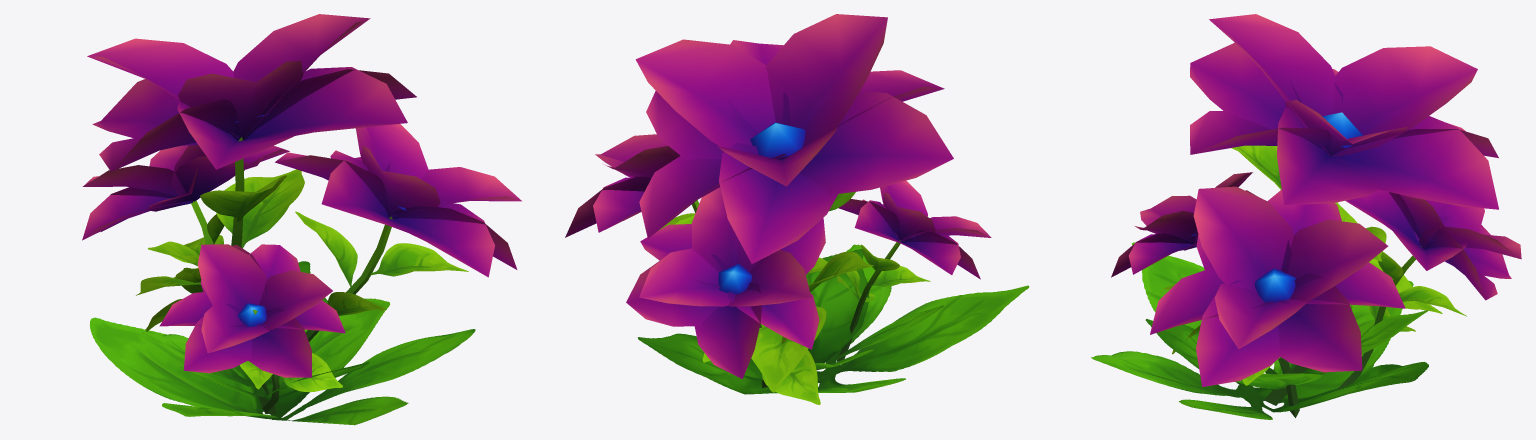
The model's file is RedFlowerGroup.FBX.
The picture shows the model from 3 angles, left to right: view 1: azimuth 30°, elevation 25°; view 2: azimuth 150°, elevation 25°; view 3: azimuth 270°, elevation 25°; orthographic projection. The views are drawn at different scales.
Visible parts, largest first — view 1: RedFlowerGroup; view 2: RedFlowerGroup; view 3: RedFlowerGroup.
Boxes of the visible parts, <box> form: RedFlowerGroup: <box>82,14,521,425</box>; RedFlowerGroup: <box>565,14,1029,404</box>; RedFlowerGroup: <box>1091,14,1521,419</box>.
Size of the model in its own units: 85.1 by 77.05 by 82.27.
